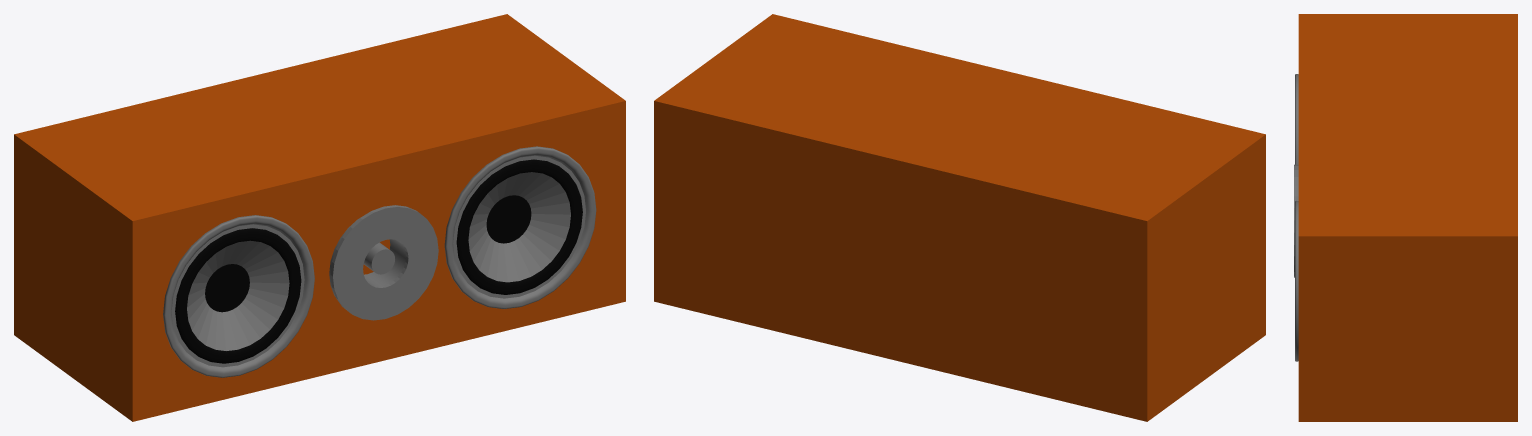
File: 스피커_주.FBX
3 views of the same model, side by side, from view 1: azimuth 30°, elevation 25°; view 2: azimuth 150°, elevation 25°; view 3: azimuth 270°, elevation 25° (orthographic). The views are drawn at different scales.
Visible parts, largest first — view 1: Box395, Circle084, Circle085, Circle083; view 2: Box395; view 3: Box395, Circle084, Circle085, Circle083.
Boxes of the visible parts, <box> form: Box395: <box>14,14,625,421</box>; Circle084: <box>444,146,596,308</box>; Circle085: <box>163,215,314,377</box>; Circle083: <box>329,205,438,320</box>; Box395: <box>654,14,1265,421</box>; Box395: <box>1298,14,1517,421</box>; Circle084: <box>1295,201,1298,361</box>; Circle085: <box>1295,74,1298,164</box>; Circle083: <box>1294,164,1298,277</box>.
Bounding box in the file's own units: 497 × 193 × 211.
